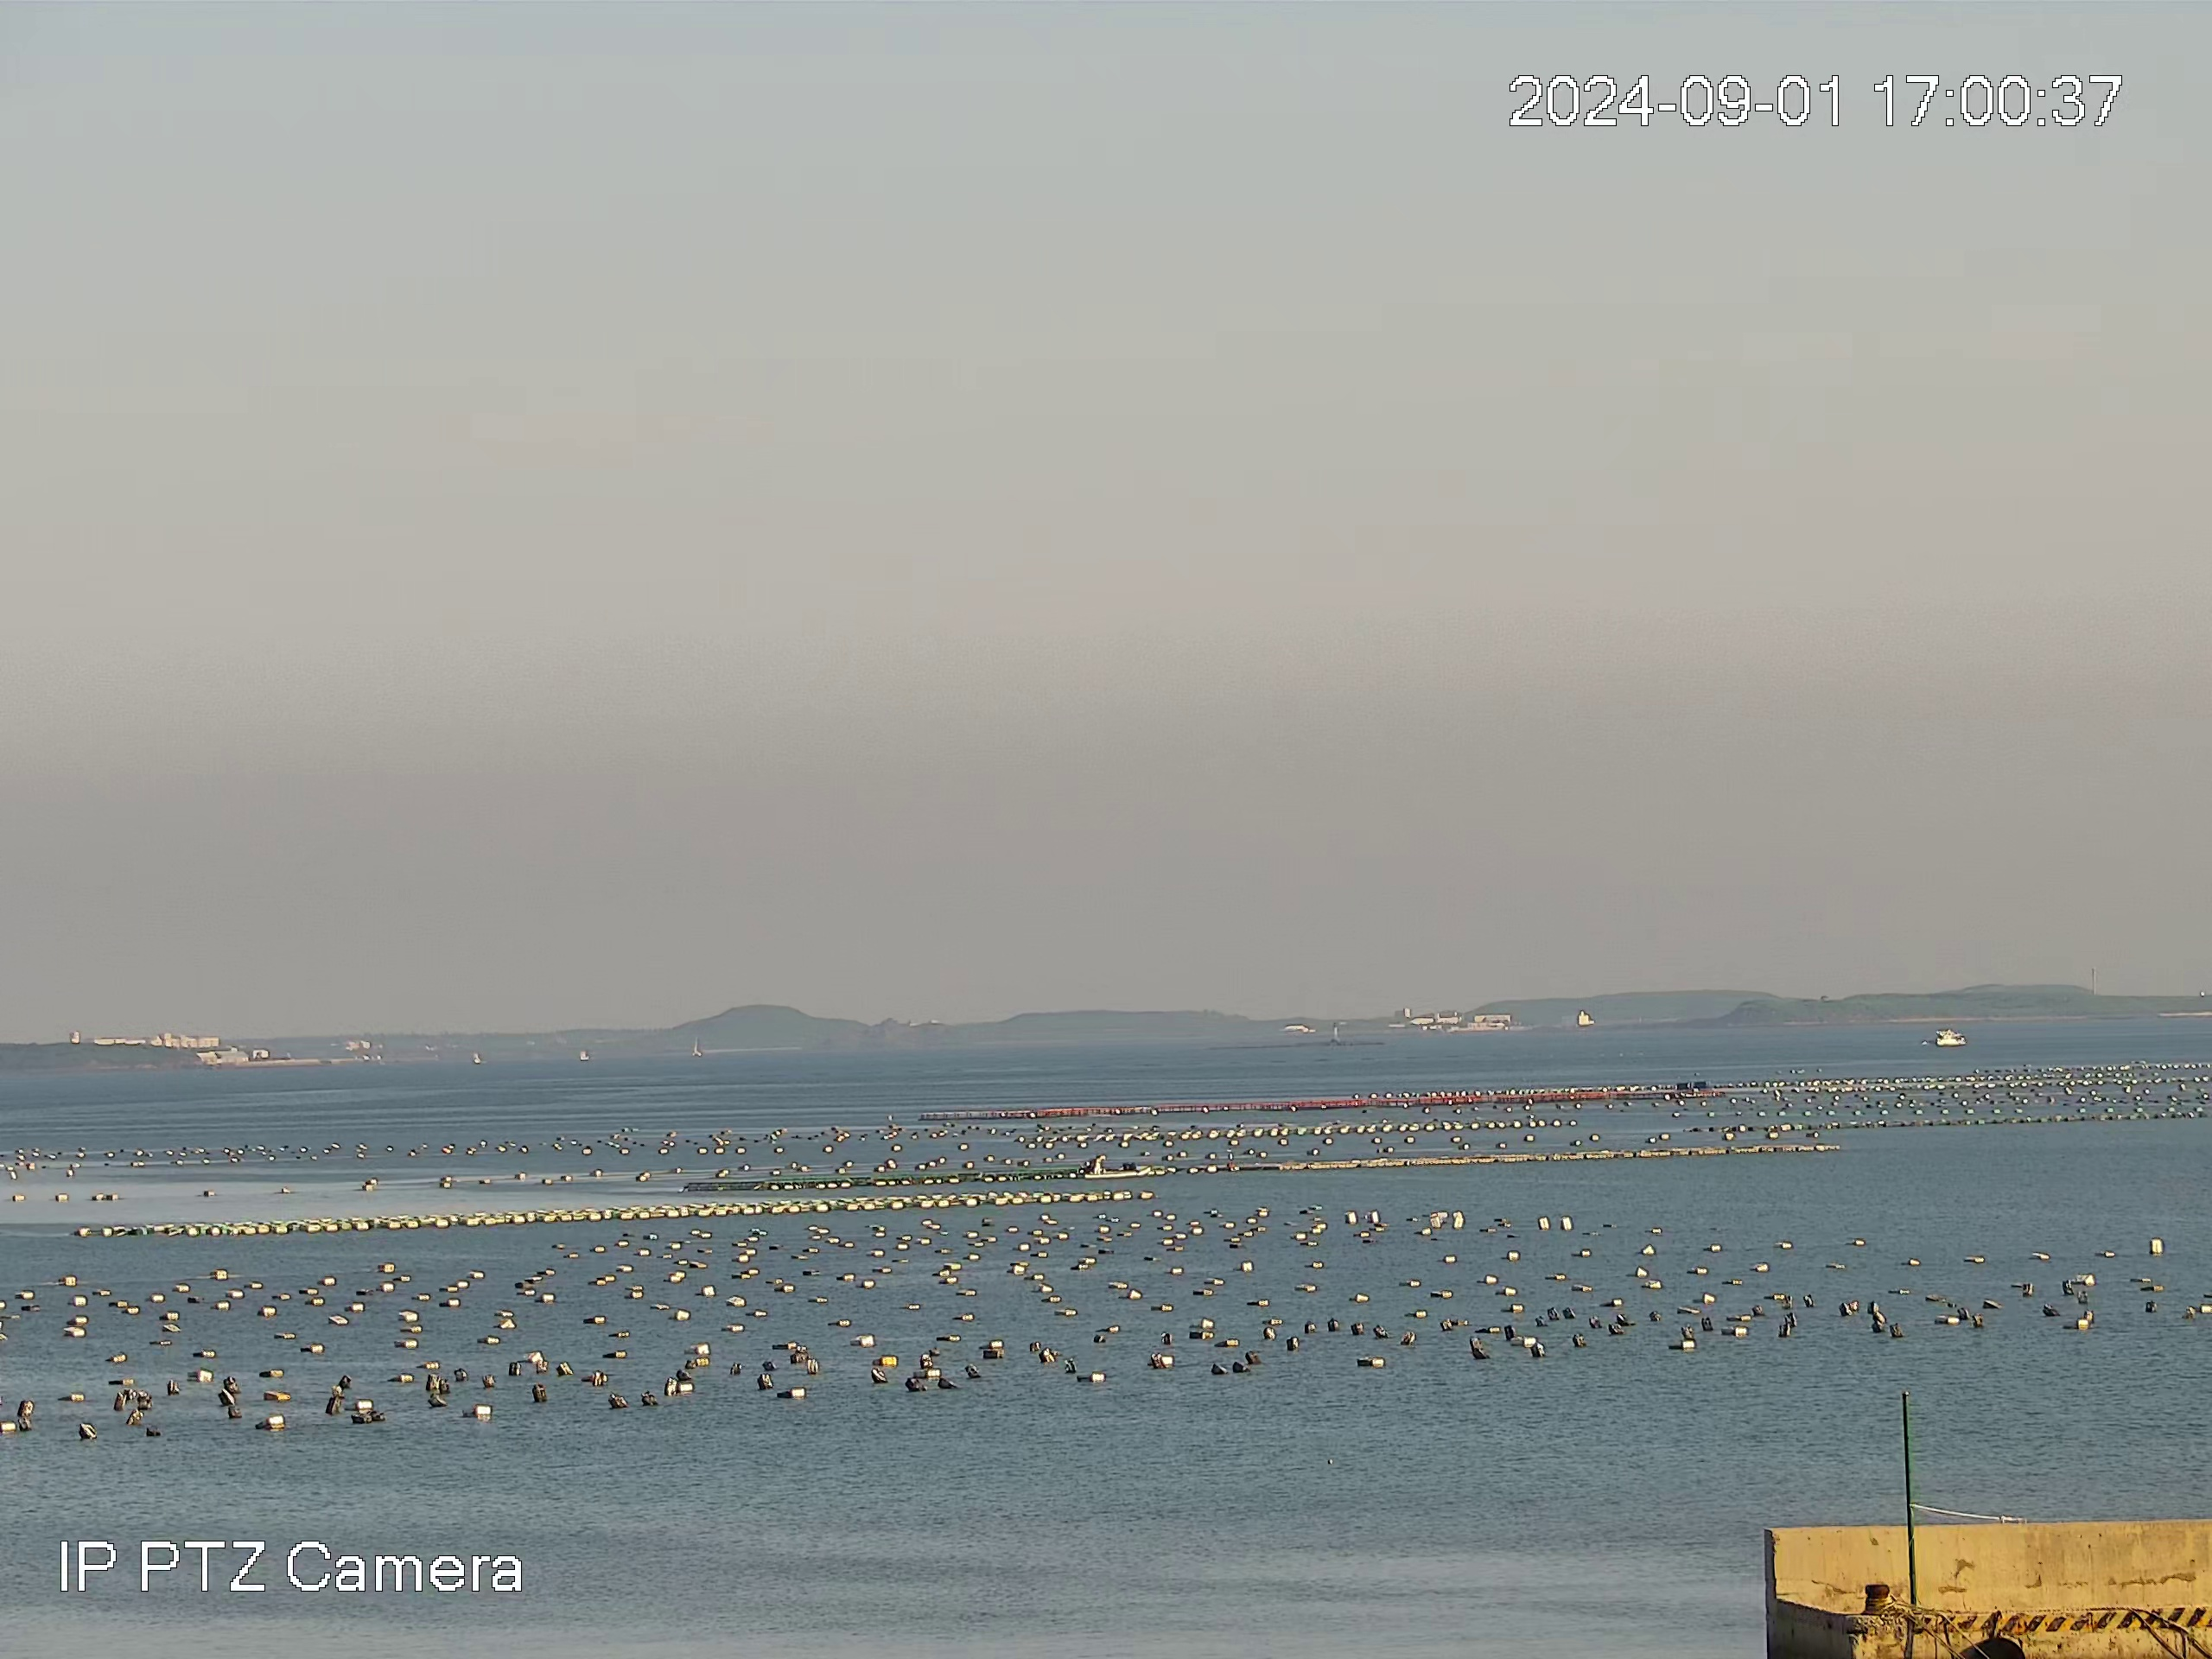boat: (1082, 1152, 1150, 1175), (1937, 1032, 1968, 1047)
